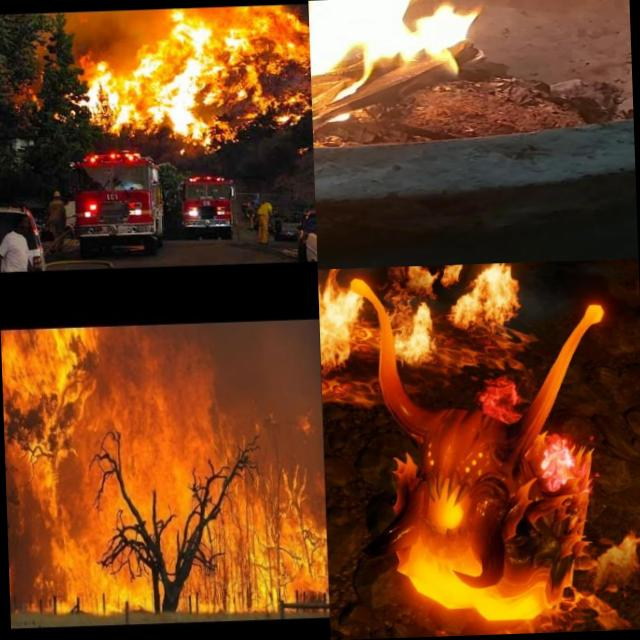fire: (0, 318, 329, 616), (79, 3, 313, 142), (308, 0, 522, 144), (447, 262, 524, 341), (318, 272, 369, 384), (390, 296, 439, 368)
